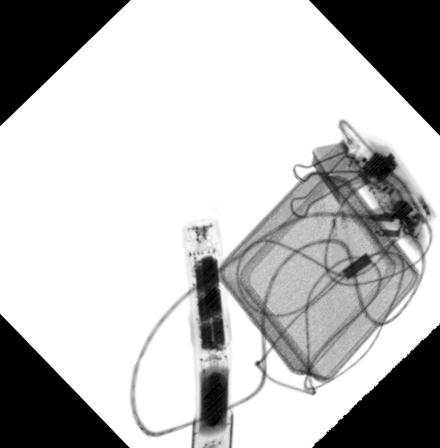Baton: (180, 215, 235, 448)
